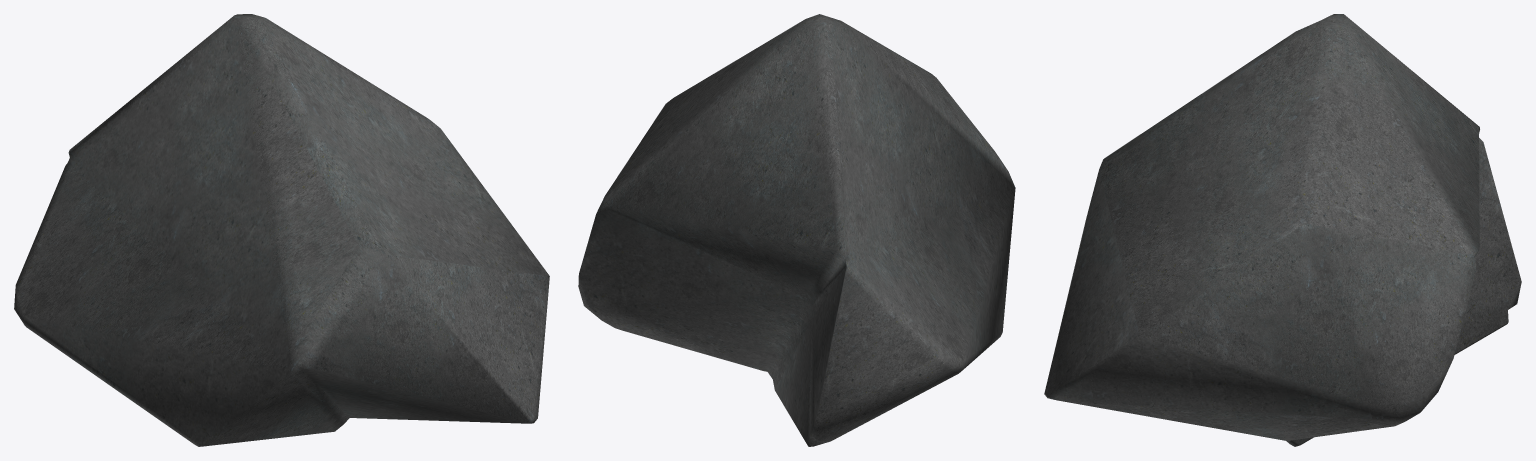
File: rock.015.obj
The picture shows the model from 3 angles, left to right: view 1: azimuth 30°, elevation 25°; view 2: azimuth 150°, elevation 25°; view 3: azimuth 270°, elevation 25°; orthographic projection. The views are drawn at different scales.
Size of the model in its own units: 1.65 by 1.66 by 1.8.
1 material, 1 textured.
